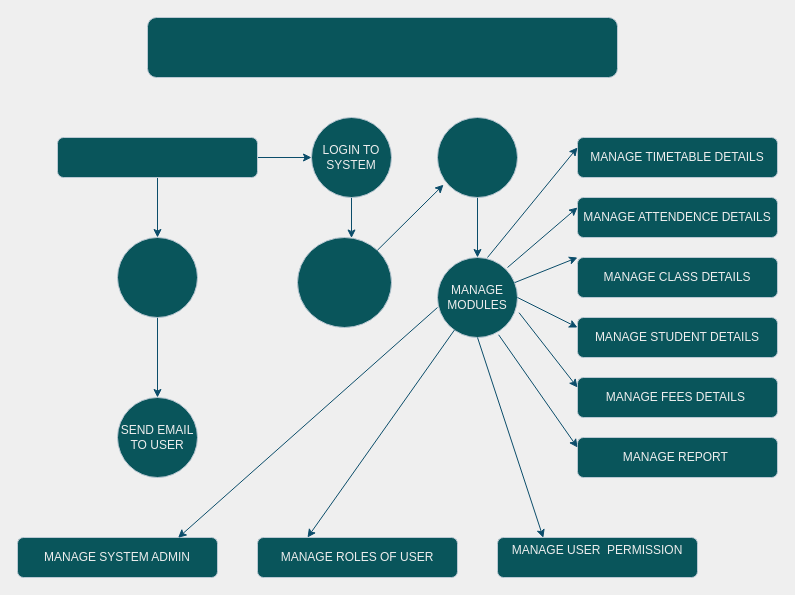
Some shapes in this 795 by 595 pixel diagram are drawn without their labels. The shapes that lost their labels are listed below. From the top down, each one's centre as x and y in pixels, then its label:
At (382,47): "STUDENT INFORMATION SYSTEM".
At (157,157): "ADMIN".
At (477,157): "CHECK ROLES OF ACCESS".
At (157,277): "FORGET PASSWORD".
At (344,282): "CHECK CREDENTIALS".
